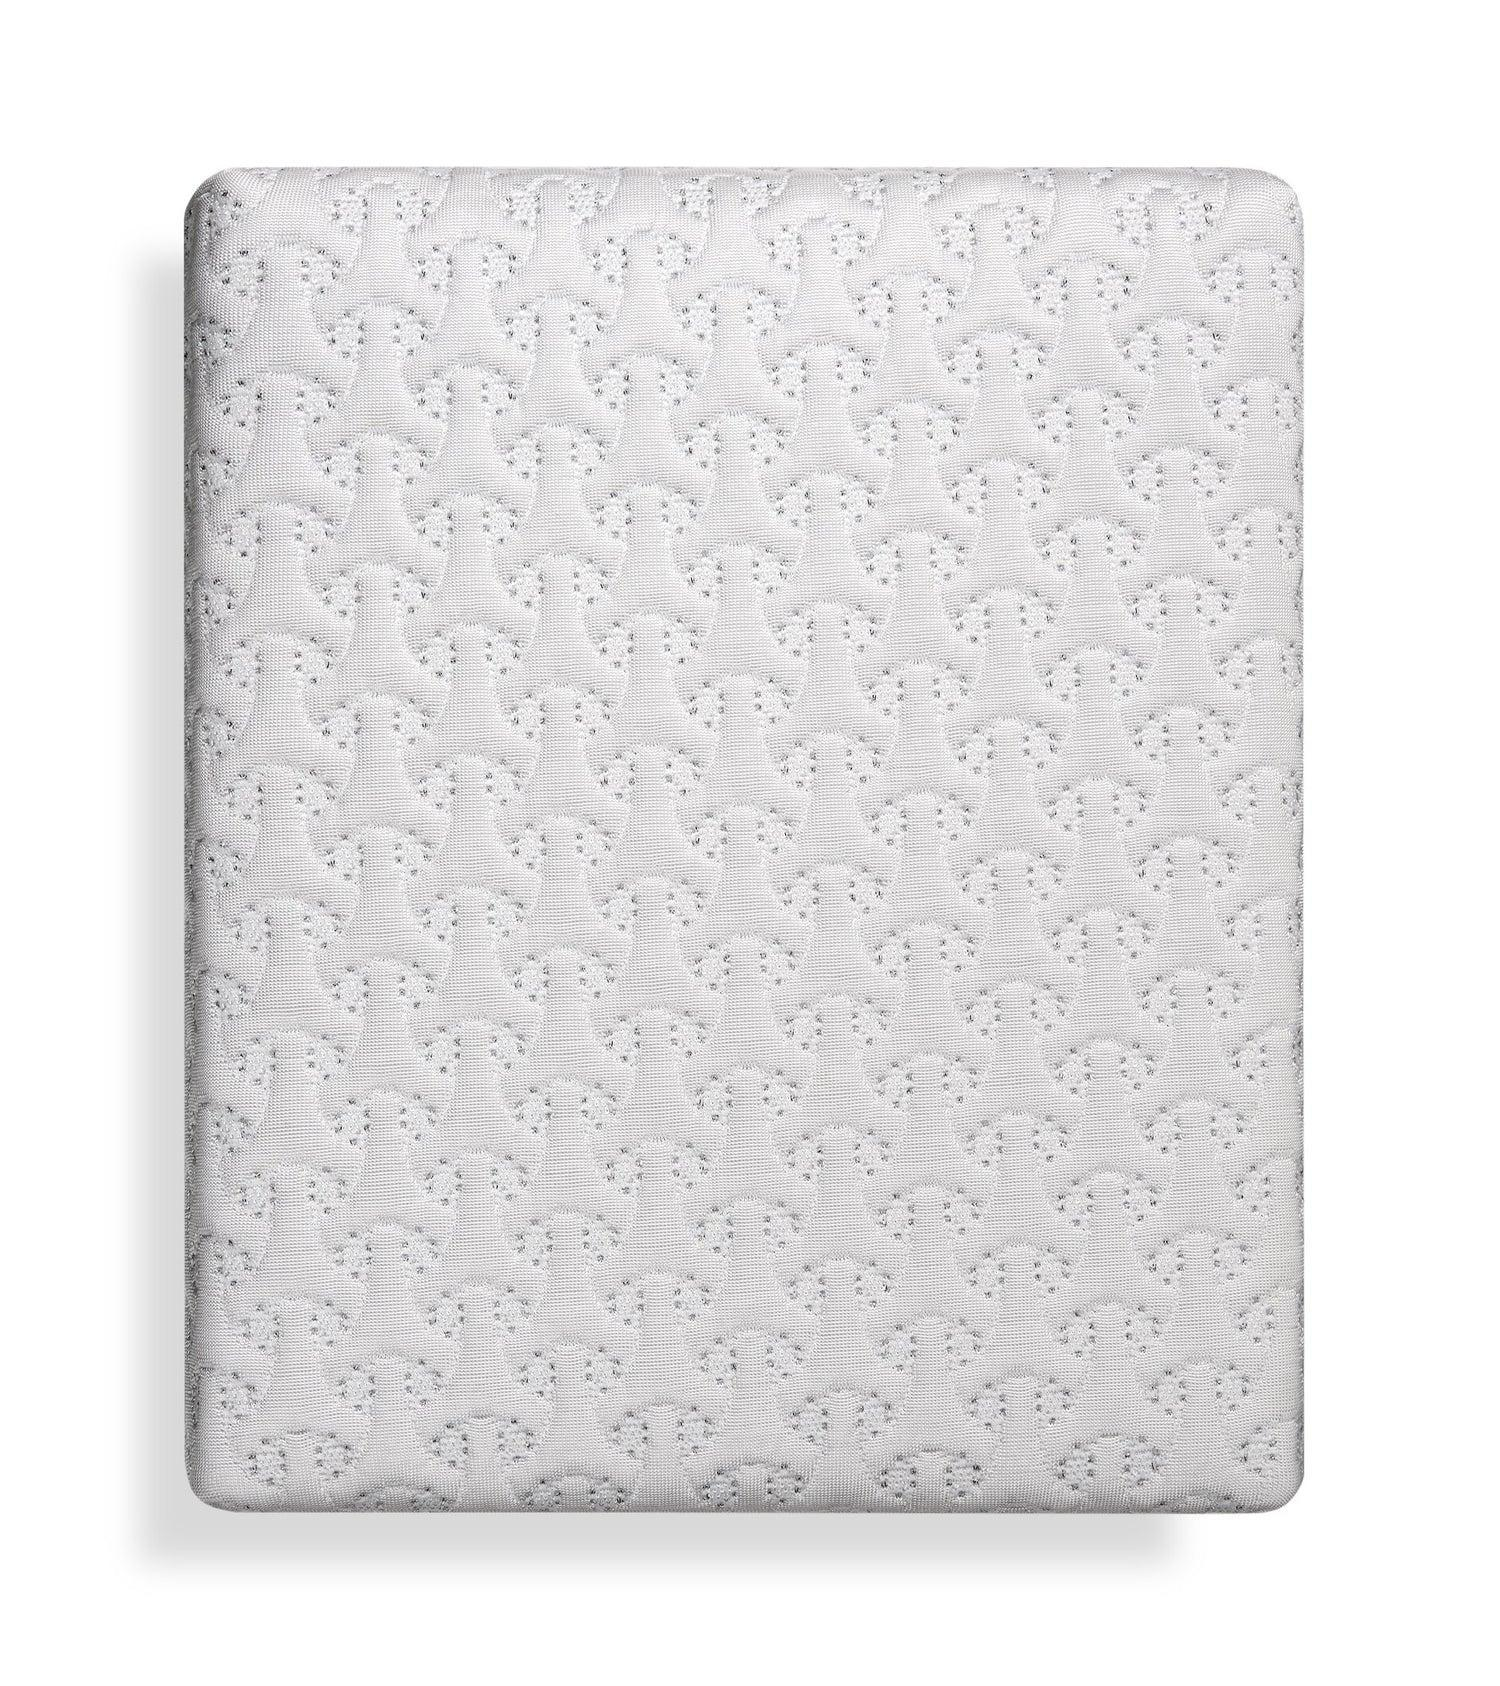Bed-Mattress: (178, 161, 1313, 1518)
